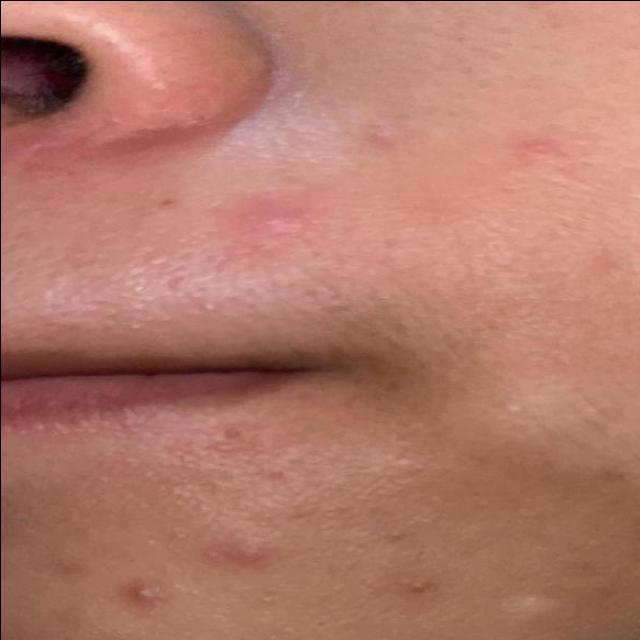papule: (175, 529, 294, 601), (466, 117, 590, 175), (234, 195, 324, 251)
pustule: (115, 564, 176, 624)
